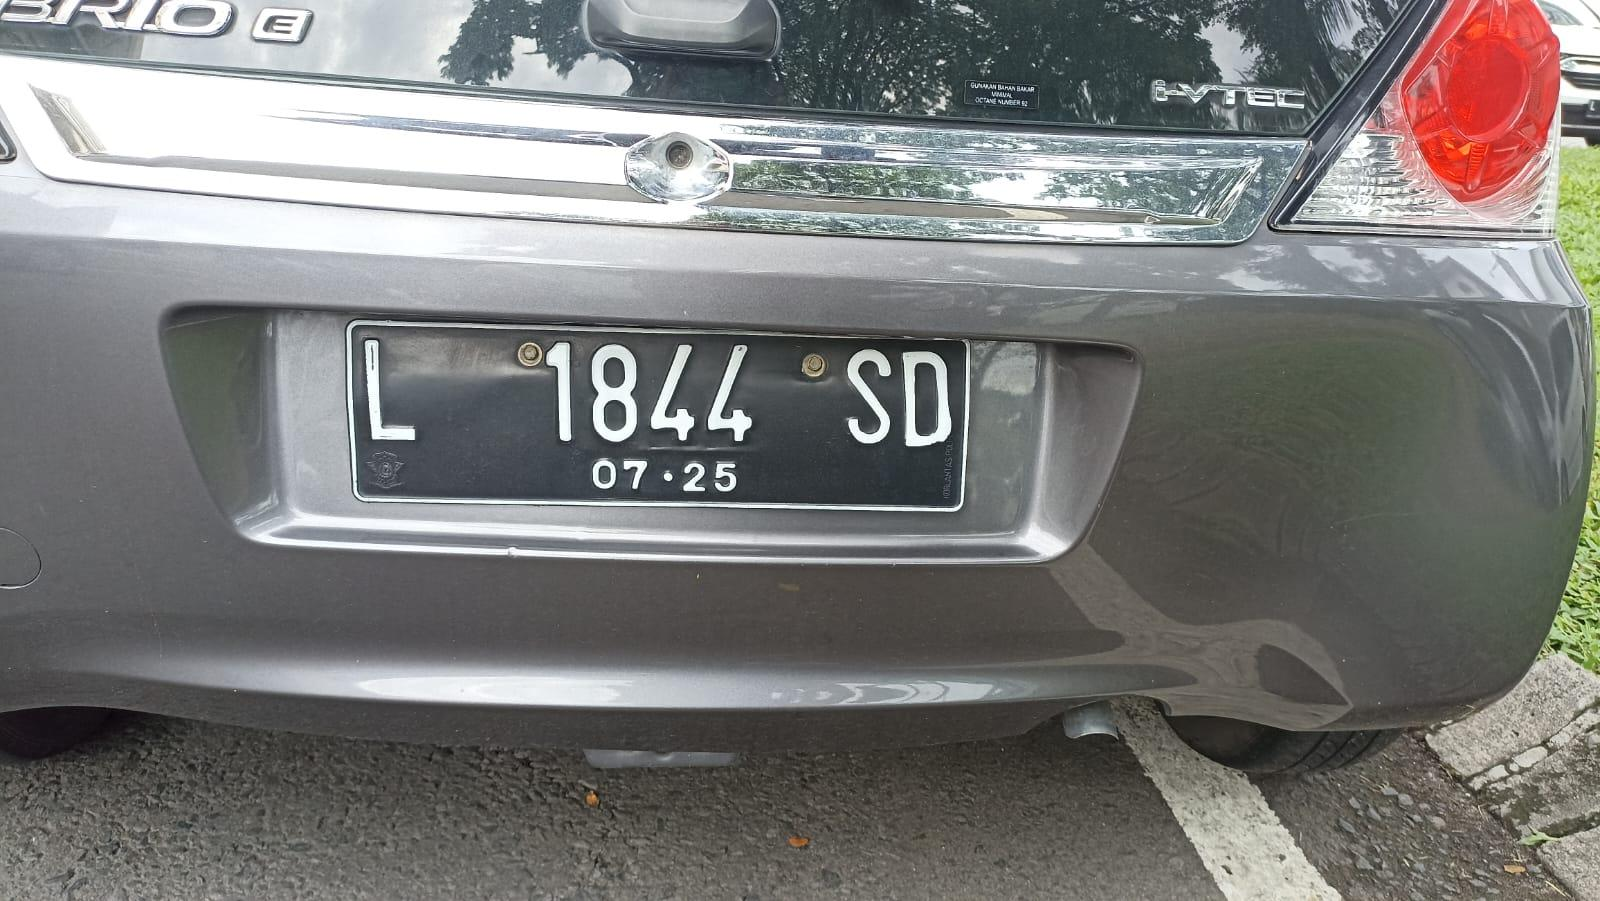plat: (347, 322, 971, 512)
